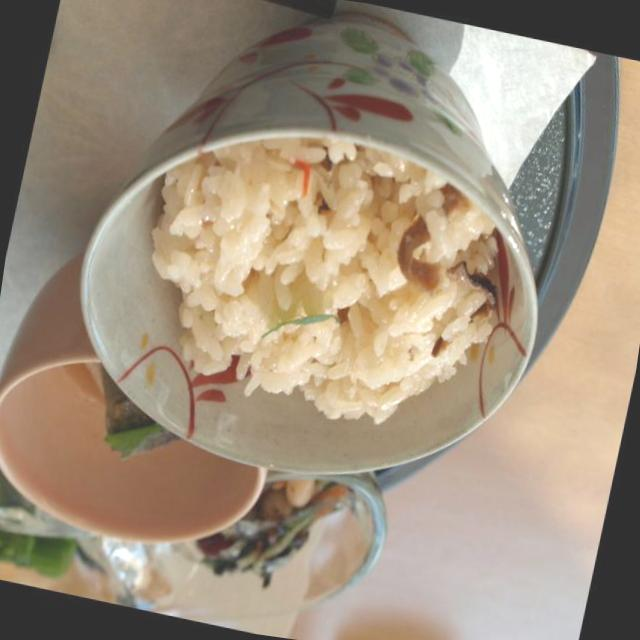Rice: (121, 74, 524, 454)
